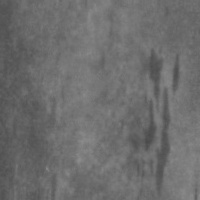inclusion: (131, 45, 182, 199)
